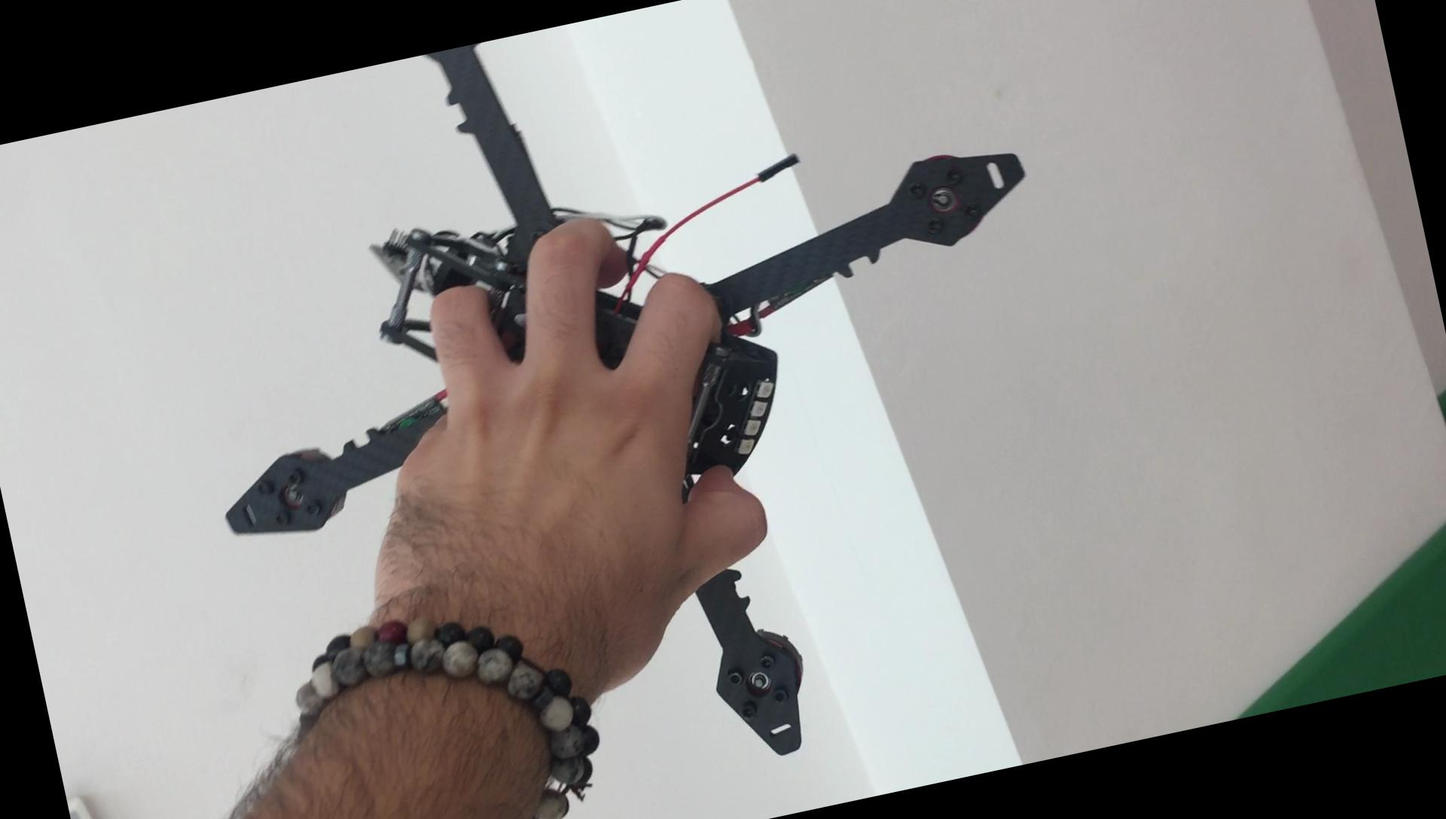drone: (98, 0, 1149, 819)
